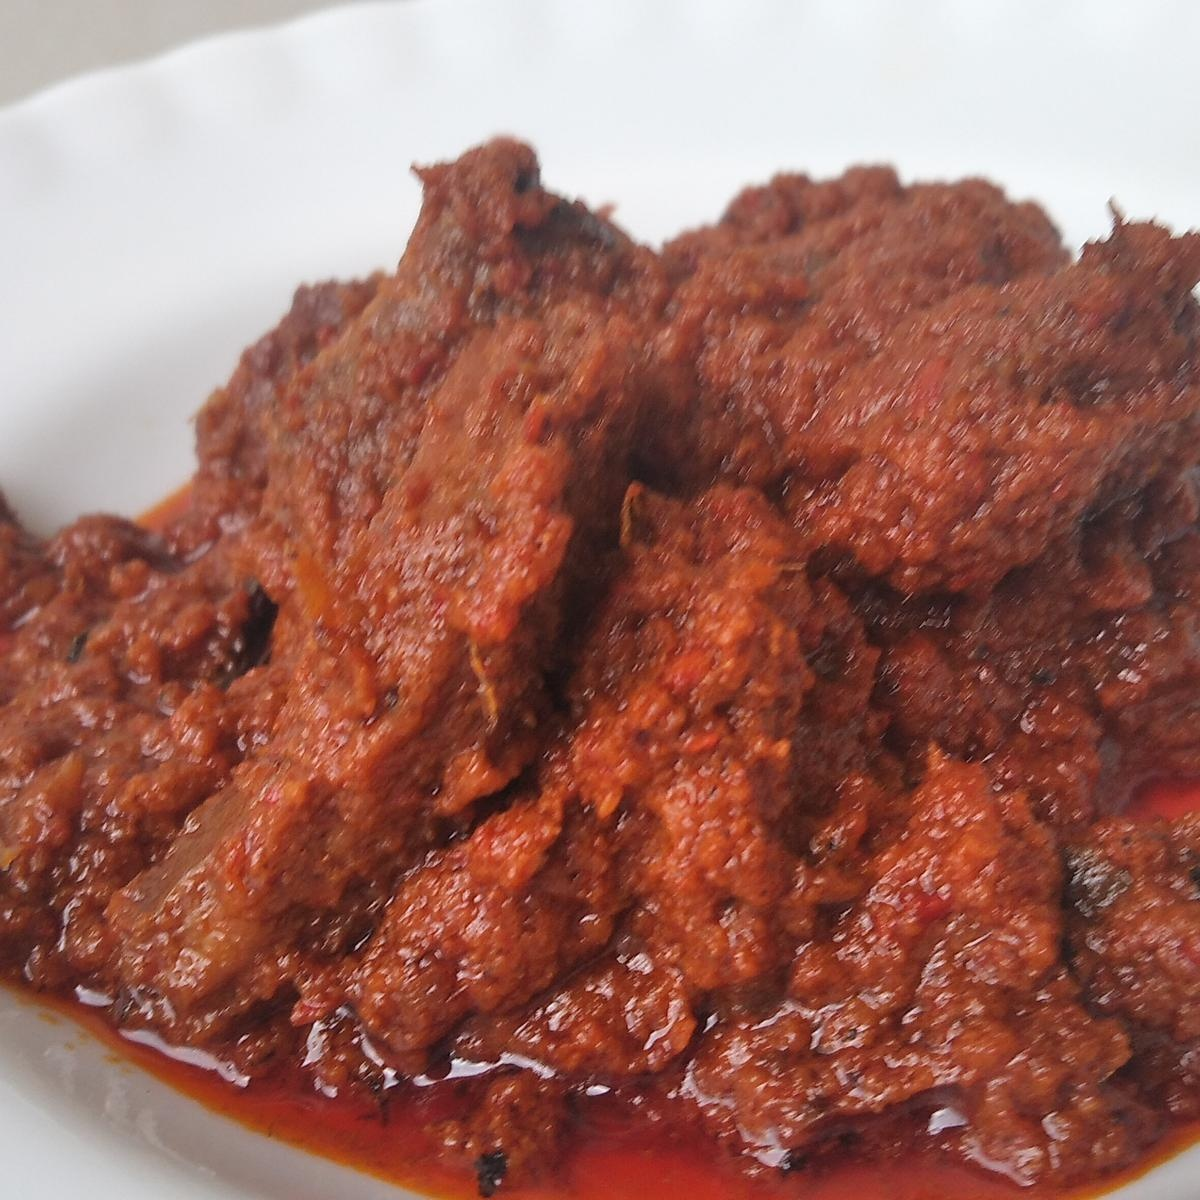rendang: (33, 138, 1176, 1121)
